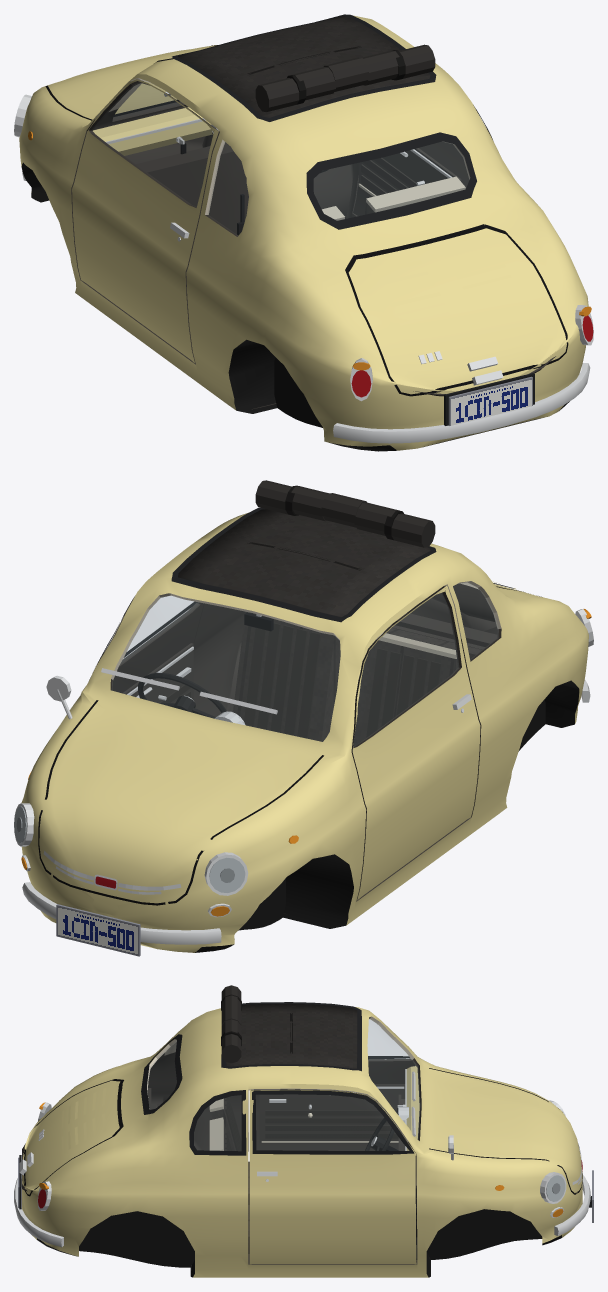
Rendered from classic_f.glb.
3 views of the same model, one above another, from view 1: azimuth 30°, elevation 25°; view 2: azimuth 150°, elevation 25°; view 3: azimuth 270°, elevation 25° (orthographic). The views are drawn at different scales.
Parts seen in each view (by area): view 1: Body, Door_L, Glass, Interior, Roof_Closed, Door_L_Glass, Roof_Open, Door_R, Lights_Tail; view 2: Body, Glass, Interior, Door_L, Roof_Closed, Door_L_Glass, Roof_Open, Door_R, Lights_Head, SteeringWheel; view 3: Body, Door_R, Door_L, Roof_Closed, Door_R_Glass, Glass, Interior, Roof_Open, SteeringWheel.
Boxes of the visible parts, x1,y1,x2,y2 form: Body: (14,14,593,451); Door_L: (72,79,219,363); Glass: (149,83,469,234); Interior: (93,107,465,235); Roof_Closed: (178,16,430,117); Door_L_Glass: (92,83,212,206); Roof_Open: (255,44,435,111); Door_R: (353,141,469,215); Lights_Tail: (351,315,593,397); Body: (14,508,593,956); Glass: (112,582,498,741); Interior: (182,611,497,746); Door_L: (351,585,480,900); Roof_Closed: (178,509,430,617); Door_L_Glass: (354,593,458,745); Roof_Open: (255,480,435,547); Door_R: (89,596,203,703); Lights_Head: (14,806,245,892); SteeringWheel: (138,672,226,718); Body: (14,1002,593,1277); Door_R: (249,1089,416,1264); Door_L: (251,1056,415,1150); Roof_Closed: (226,1003,357,1068); Door_R_Glass: (256,1095,408,1150); Glass: (147,1019,420,1150); Interior: (147,1066,419,1262); Roof_Open: (221,985,241,1063); SteeringWheel: (365,1110,398,1150).
Size of the model in its own units: 1.32 by 1.29 by 3.07.
27 materials, 6 textured.
